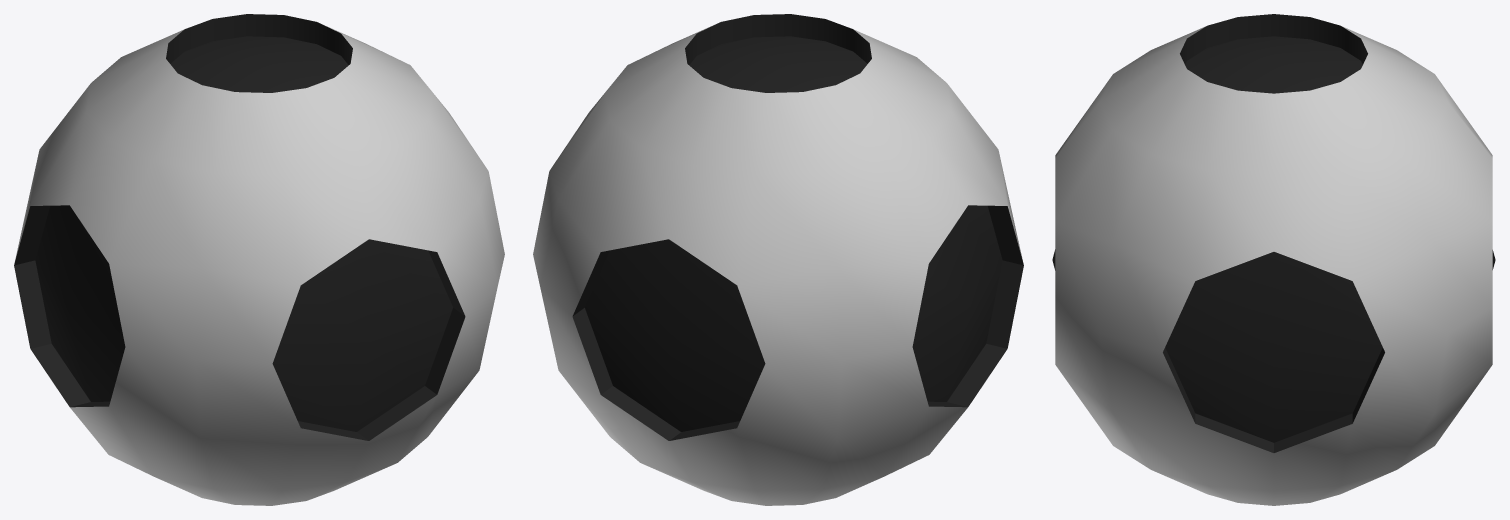
The model's file is pivot.obj.
3 renders of one model, left to right at view 1: azimuth 30°, elevation 25°; view 2: azimuth 150°, elevation 25°; view 3: azimuth 270°, elevation 25°, orthographic.
Parts seen in each view (by area): view 1: Sphere; view 2: Sphere; view 3: Sphere.
Boxes of the visible parts, left/top/right/bottom form: Sphere: left=14, top=14, right=504, bottom=505; Sphere: left=533, top=14, right=1023, bottom=505; Sphere: left=1052, top=14, right=1495, bottom=505.
Size of the model in its own units: 0.6981 by 0.7166 by 0.6981.
Materials: 1 (1 with a texture image).
